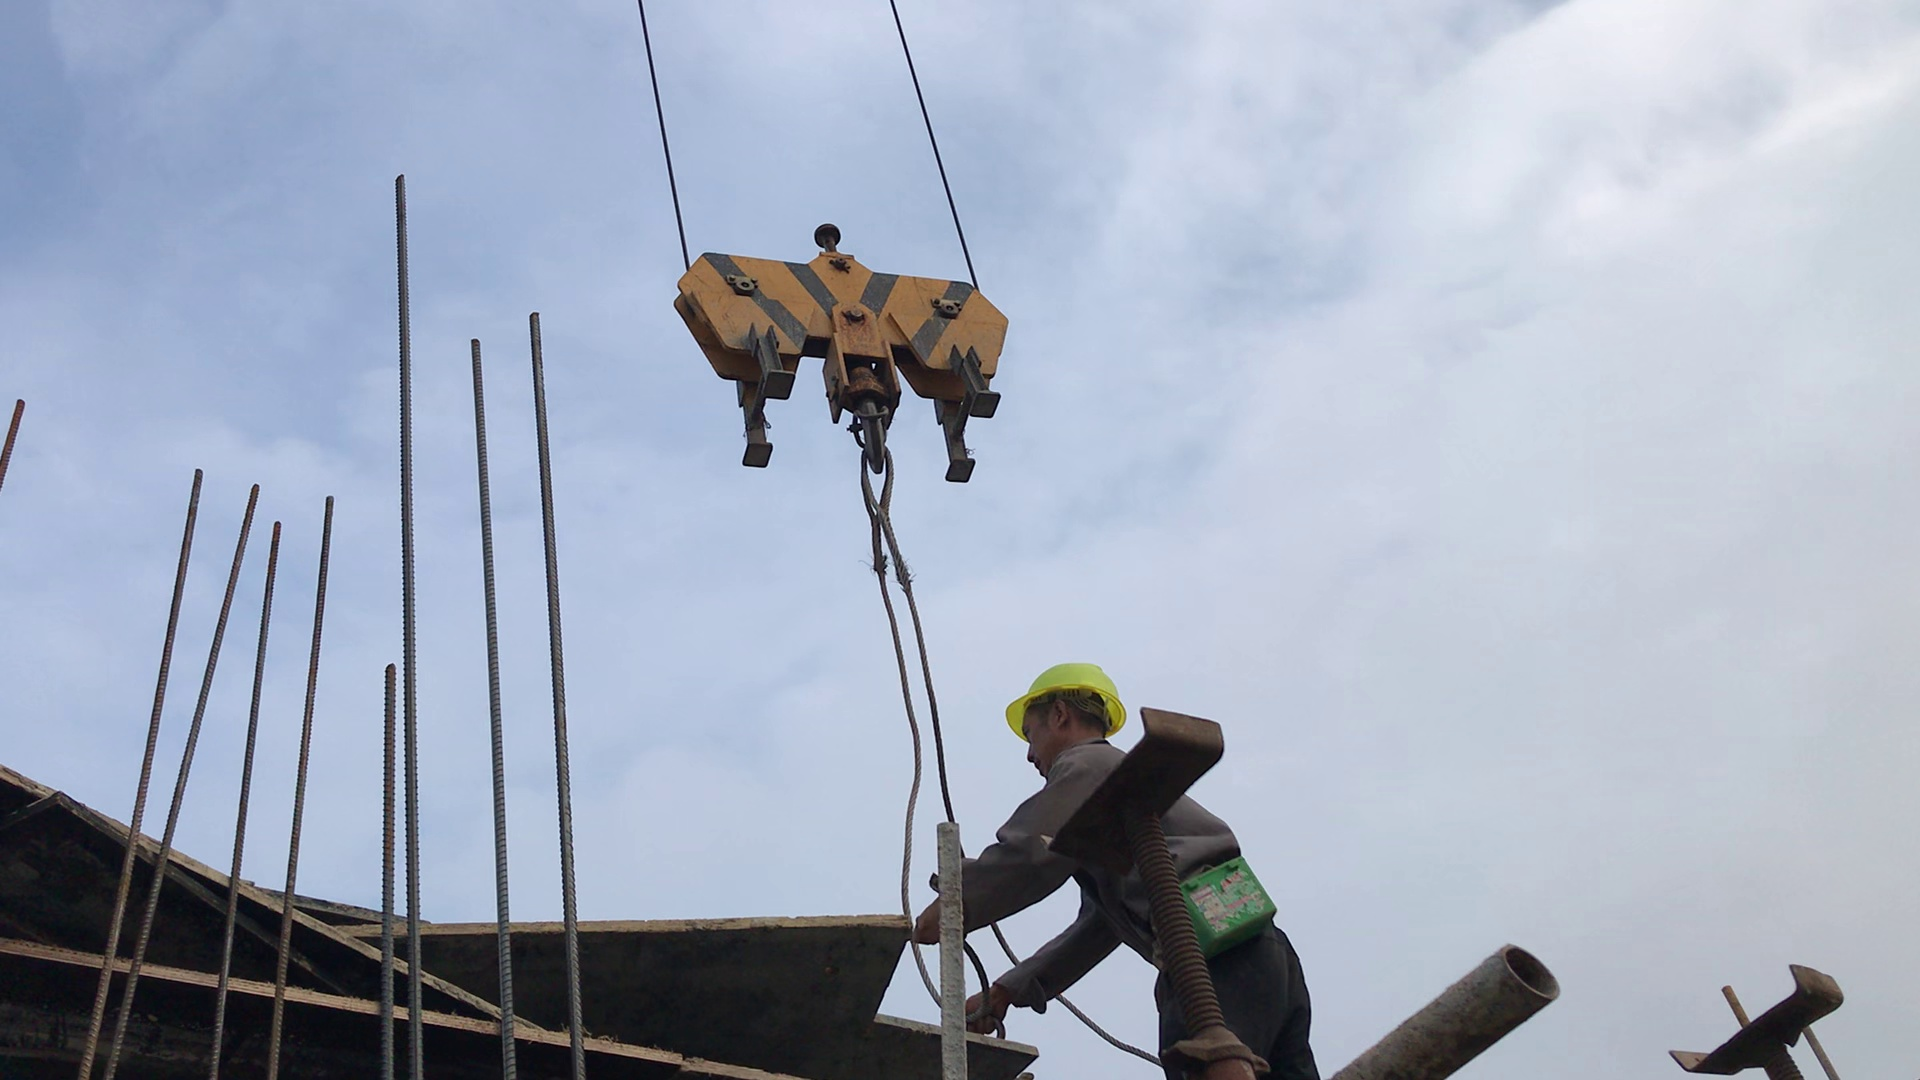helmet: (994, 649, 1134, 739)
hook: (646, 231, 1067, 506)
person: (953, 654, 1328, 1080)
rebar: (77, 236, 599, 1074)
